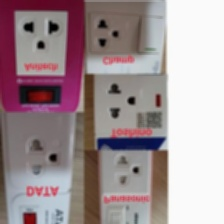three_eye_plug: (0, 0, 86, 114), (1, 111, 78, 224), (82, 0, 167, 77), (90, 70, 169, 152), (91, 148, 157, 224)
